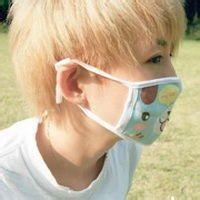face_mask: (92, 18, 180, 148)
